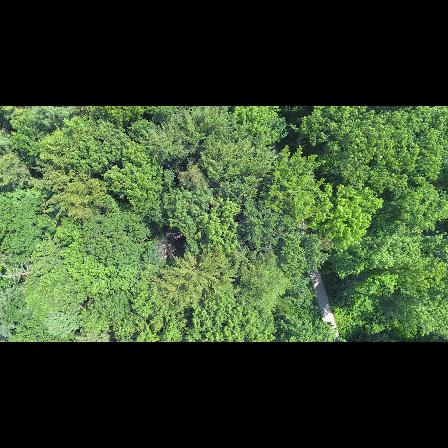Dead: (155, 221, 183, 259)
